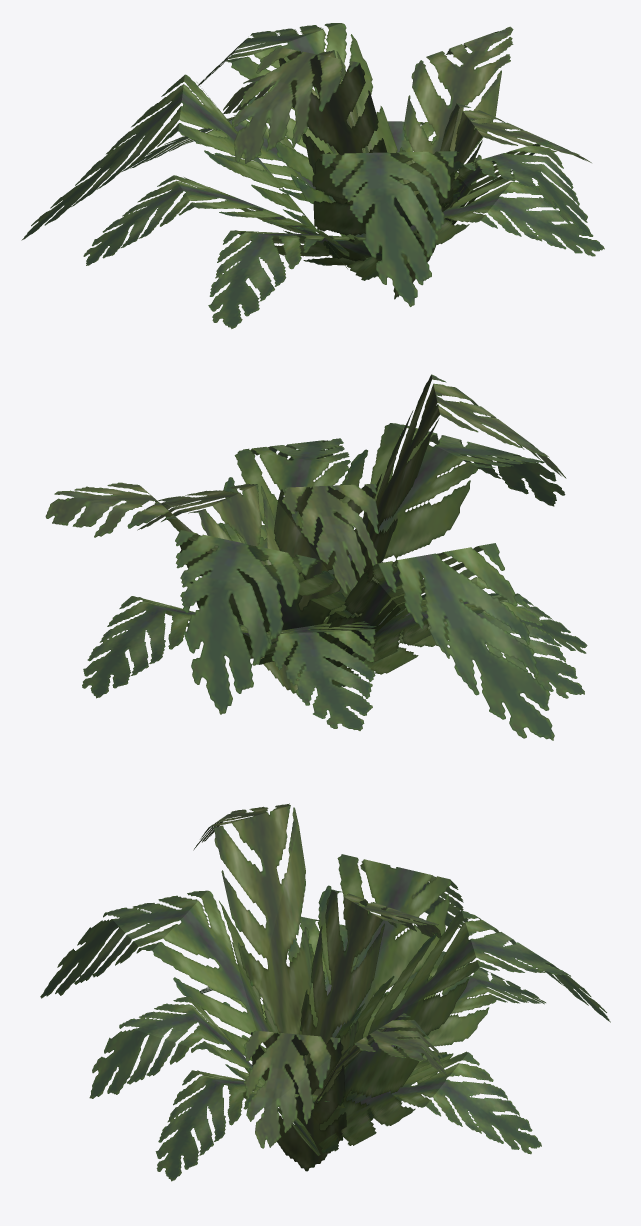
The model's file is C1SNFERN.obj.
3 views of the same model, one above another, from view 1: azimuth 30°, elevation 25°; view 2: azimuth 150°, elevation 25°; view 3: azimuth 270°, elevation 25° (orthographic). The views are drawn at different scales.
Parts seen in each view (by area): view 1: Node 0; view 2: Node 0; view 3: Node 0.
Part boxes in pixels (x1,y1,x2,y2): Node 0: (21, 23, 604, 328); Node 0: (45, 374, 587, 740); Node 0: (40, 803, 610, 1181).
Size of the model in its own units: 2.16 by 1.14 by 2.02.
1 material, 1 textured.
